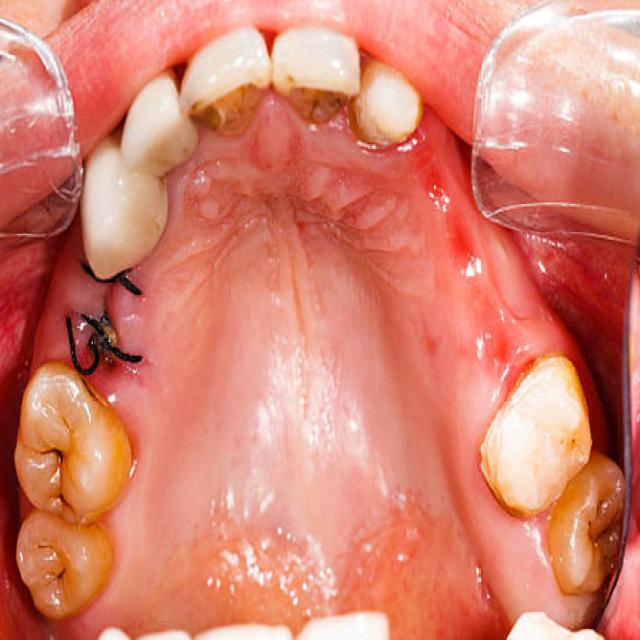caries: (186, 56, 268, 152), (277, 58, 346, 140), (578, 491, 621, 574), (31, 426, 72, 476), (44, 478, 78, 519), (47, 556, 72, 598), (34, 532, 59, 566)
